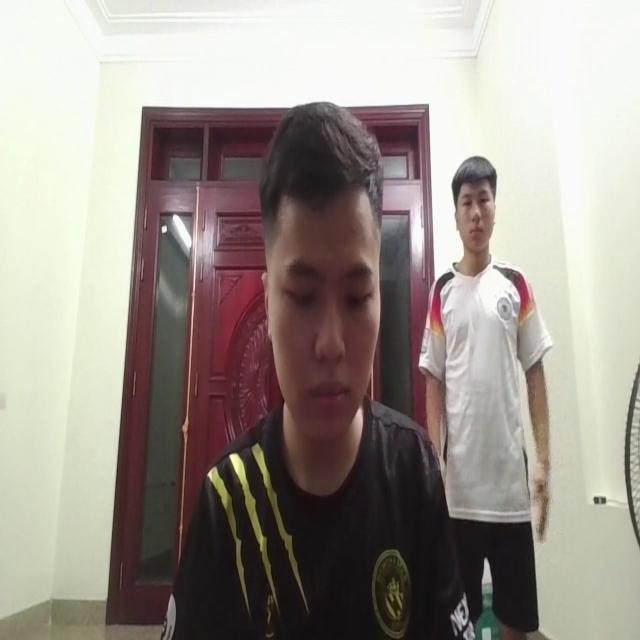extra_person: (431, 128, 552, 640)
student: (188, 92, 443, 640)
